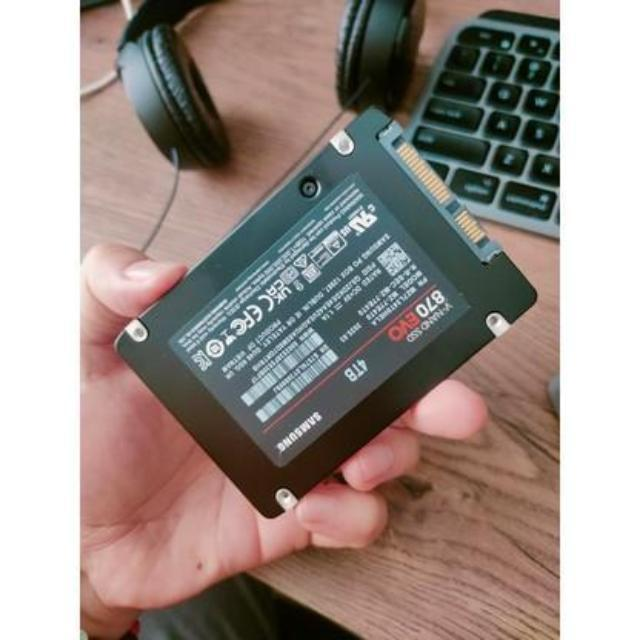DISK: (102, 106, 542, 523)
